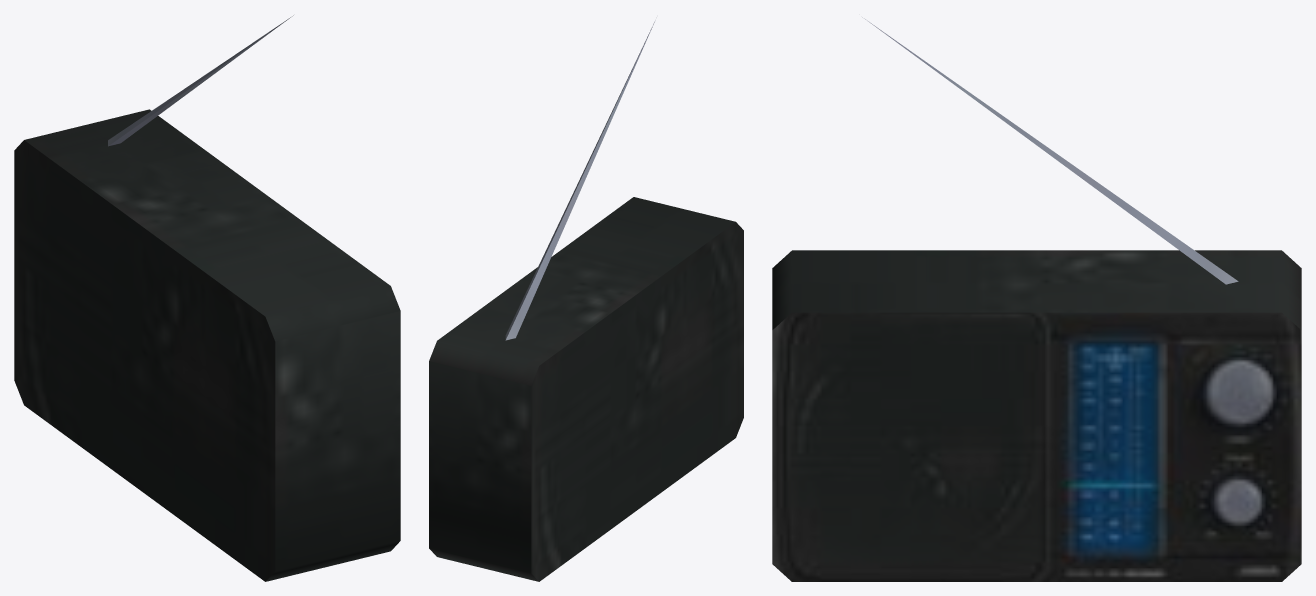
The model's file is Radio_01-col.glb.
3 views of the same model, side by side, from view 1: azimuth 30°, elevation 25°; view 2: azimuth 150°, elevation 25°; view 3: azimuth 270°, elevation 25° (orthographic). The views are drawn at different scales.
Visible parts, largest first — view 1: Radio_01-col; view 2: Radio_01-col; view 3: Radio_01-col.
Part boxes in pixels (x1=…): Radio_01-col: x1=14, y1=15, x2=400, y2=581; Radio_01-col: x1=429, y1=20, x2=743, y2=581; Radio_01-col: x1=772, y1=17, x2=1301, y2=581.
Bounding box in the file's own units: 0.1619 × 0.6517 × 0.5827.
1 material, 1 textured.
